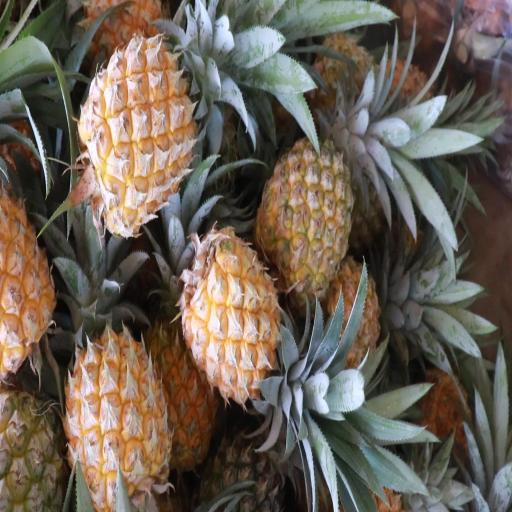------------------------------: (260, 133, 354, 292)
Pineapple - v8 v1: (81, 33, 203, 226), (66, 324, 169, 507), (184, 224, 282, 399), (0, 176, 61, 376), (145, 320, 219, 468)
